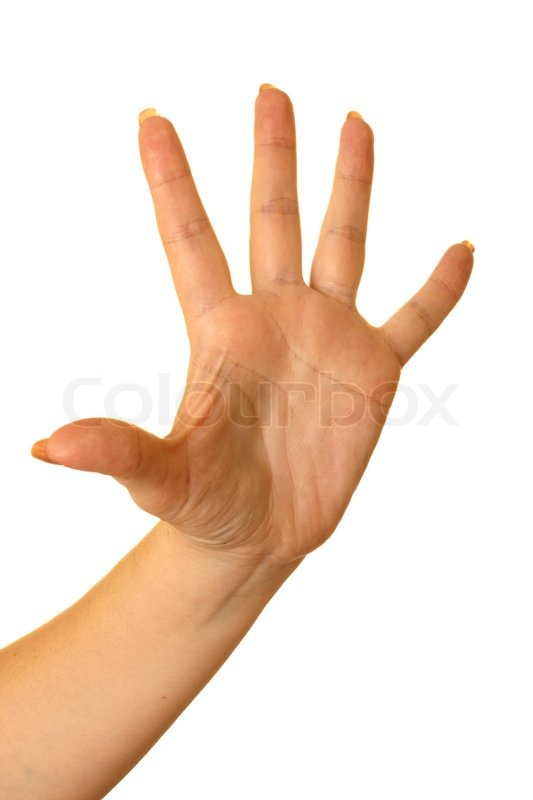open_hand: (6, 61, 502, 540)
